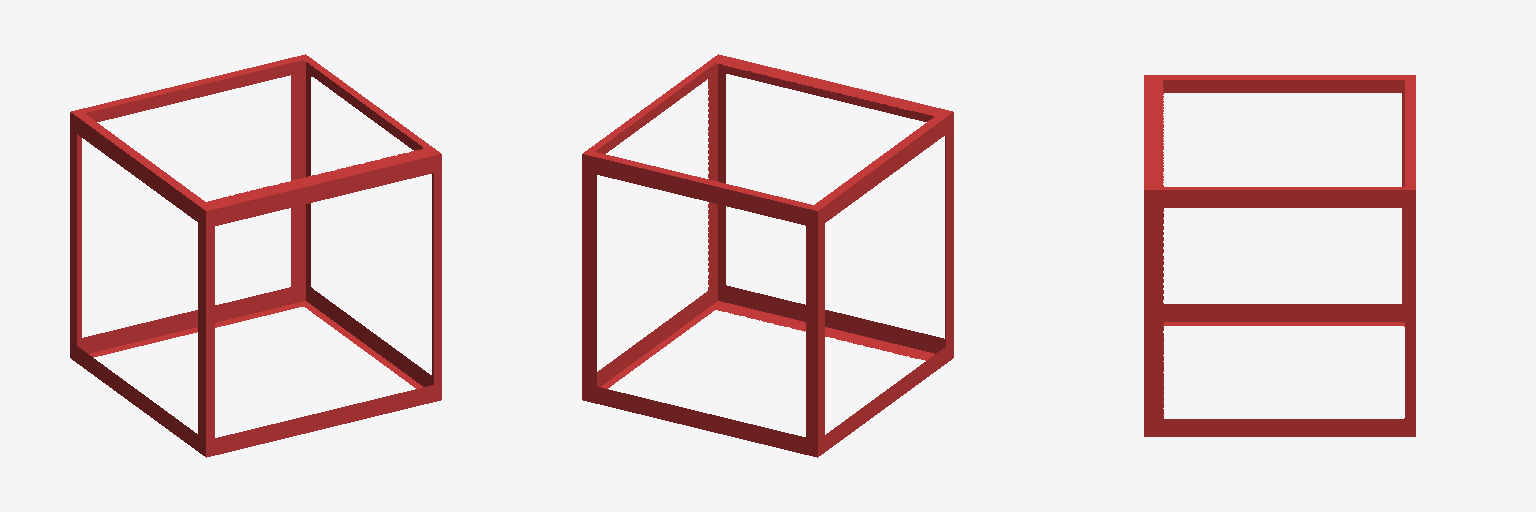
3 views of the same model, side by side, from view 1: azimuth 30°, elevation 25°; view 2: azimuth 150°, elevation 25°; view 3: azimuth 270°, elevation 25° (orthographic).
Parts seen in each view (by area): view 1: Cube; view 2: Cube; view 3: Cube.
Part boxes in pixels (bbox=[...]): Cube: bbox=[70, 54, 441, 457]; Cube: bbox=[582, 54, 953, 457]; Cube: bbox=[1144, 75, 1415, 436].
Size of the model in its own units: 2 by 2 by 2.
1 materials, 1 textured.